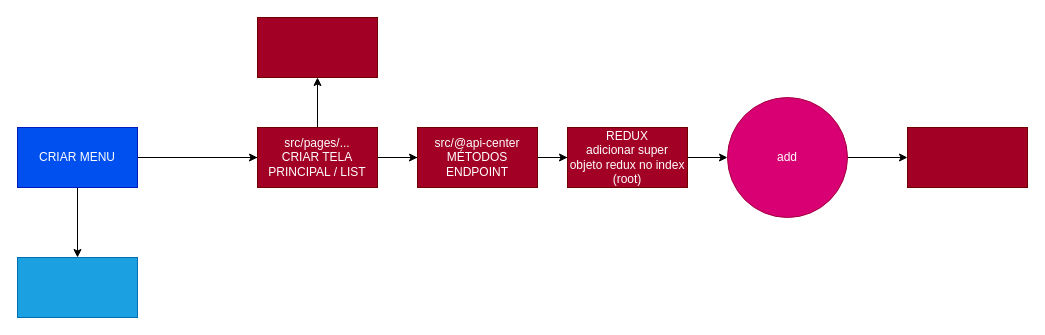
The diagram is 1045 pixels wide and 335 high, and some of its shapes have lost their labels. Here are the shapes that lost their labels. From the top down, the centre of each, then its label:
(317,47): CREATE TYPES
(967,157): src/view/...
(77,287): CRIAR PERMISSÃO
